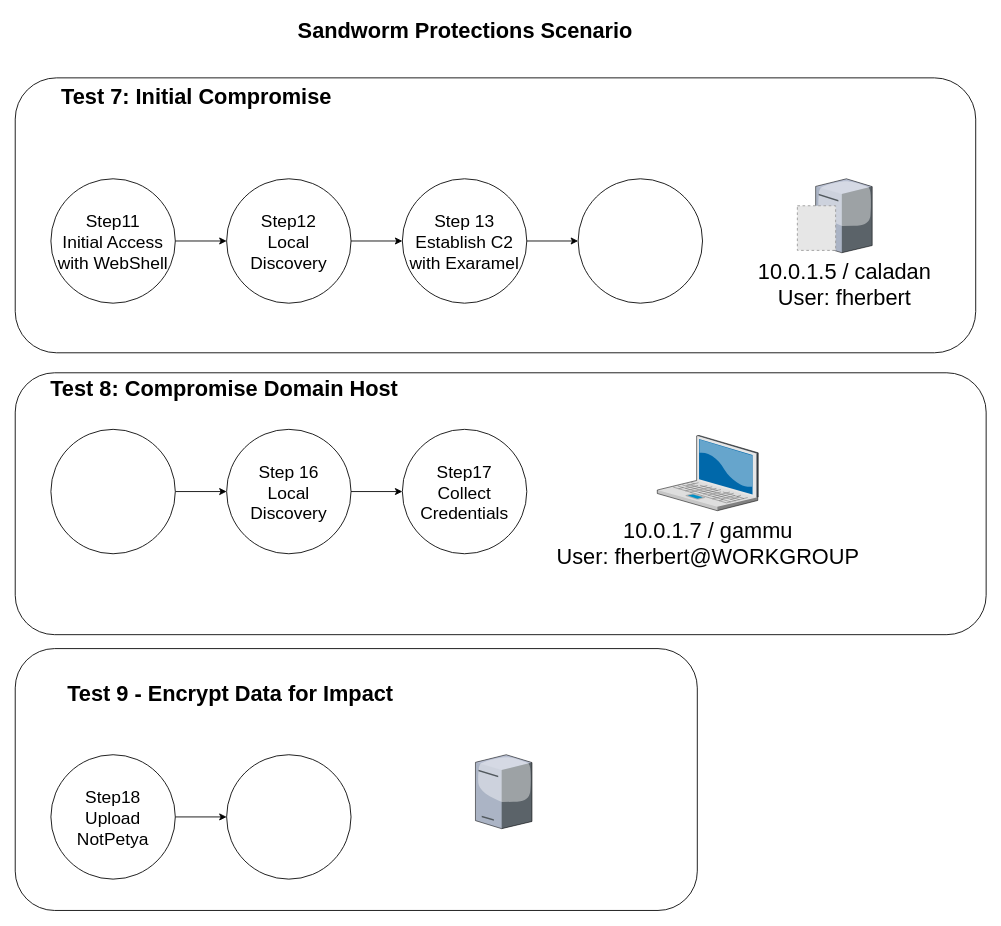
Some shapes in this 1001 by 926 pixel diagram are drawn without their labels. Grey dashed boxes stand in for pictures. The centre of each missing label's shape, as x and y in pixels:
10.0.1.4 / arrakis User: patredies@dune.local: point (503, 791)
Step 14 Persistence: Cron and systems: point (640, 240)
Step15 PsExec and Registry Persistence: point (112, 491)
Step19 Encrypt data with NotPetya: point (288, 816)
